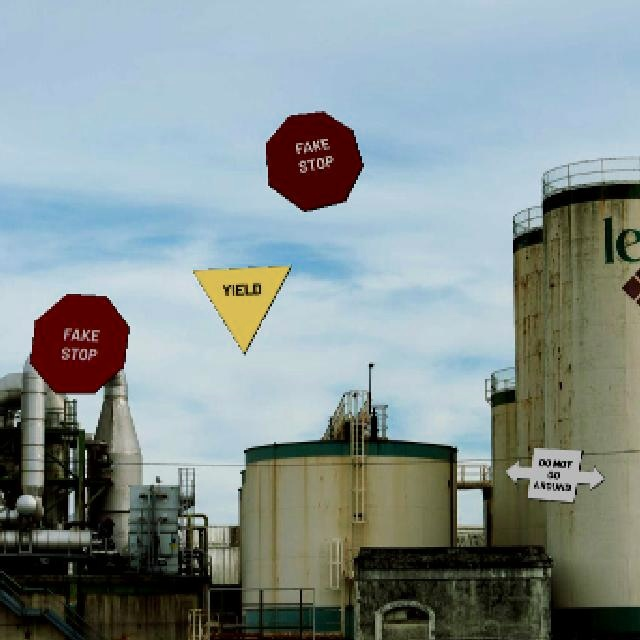DO_NOT_GO_AROUND: (503, 445, 604, 501)
FAKE_STOP: (28, 291, 128, 392), (263, 109, 362, 210)
YIELD: (190, 263, 291, 353)
